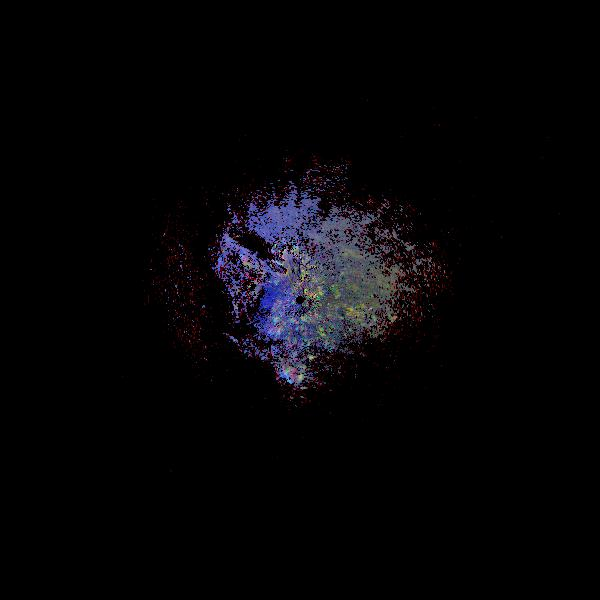roost: (284, 365, 305, 386)
